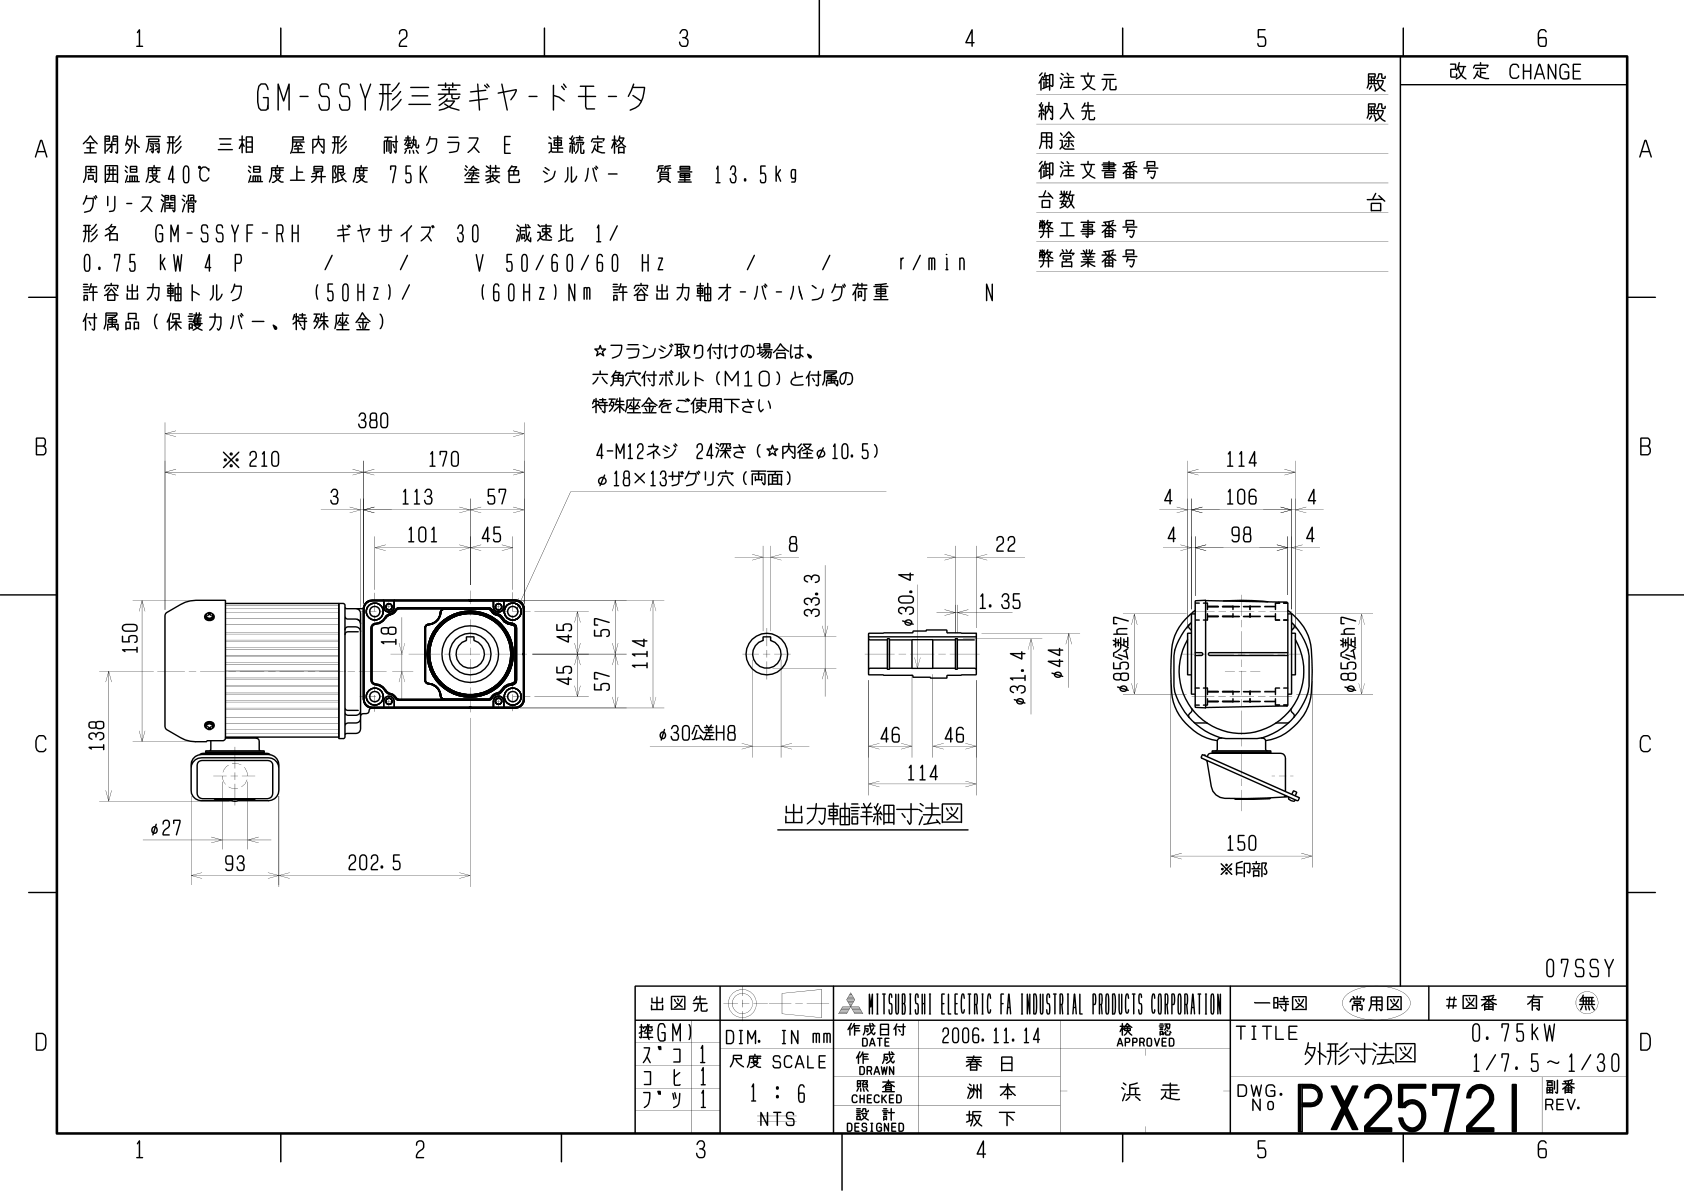GM_SSY_屋内_三相: (64, 342, 1377, 967)
